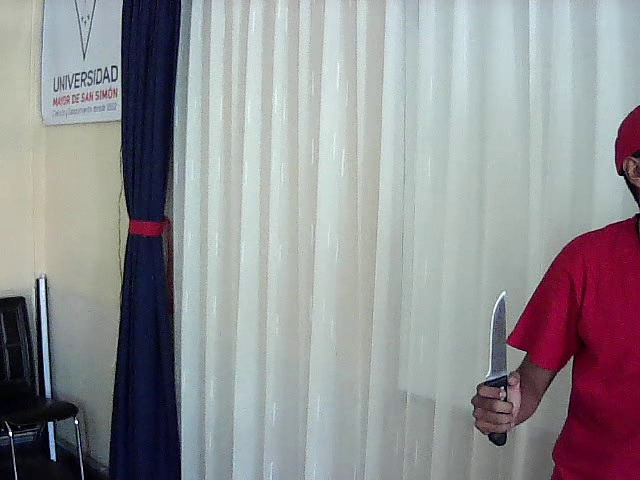cuchillo: (471, 280, 517, 402)
